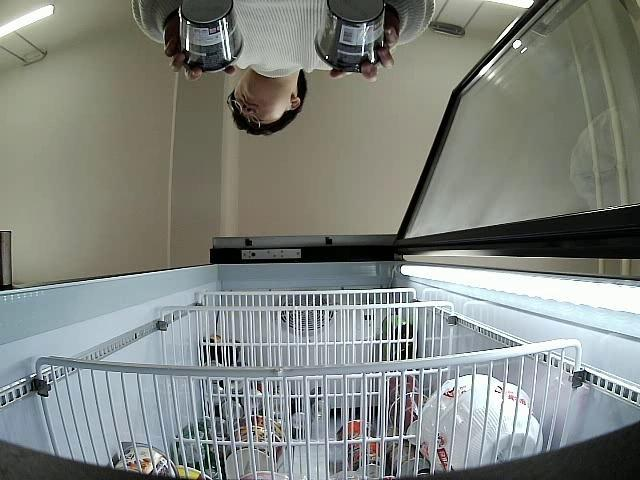08_buldak_S: (314, 0, 386, 74), (174, 0, 242, 73)
